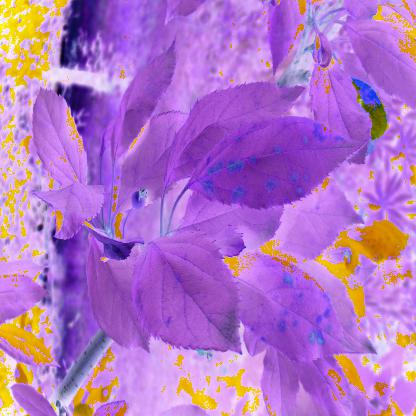apple scab leaf: (189, 114, 363, 212), (227, 248, 360, 370), (135, 233, 249, 358)
